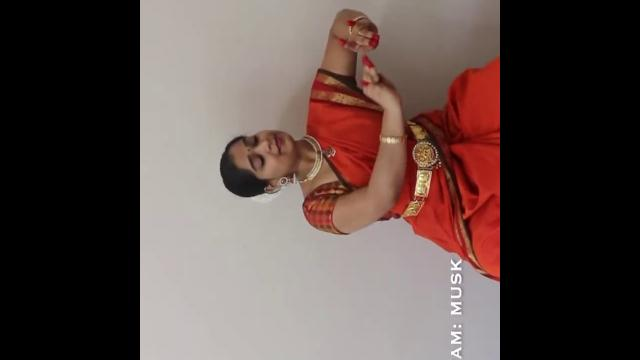chatur: (352, 50, 408, 108)
